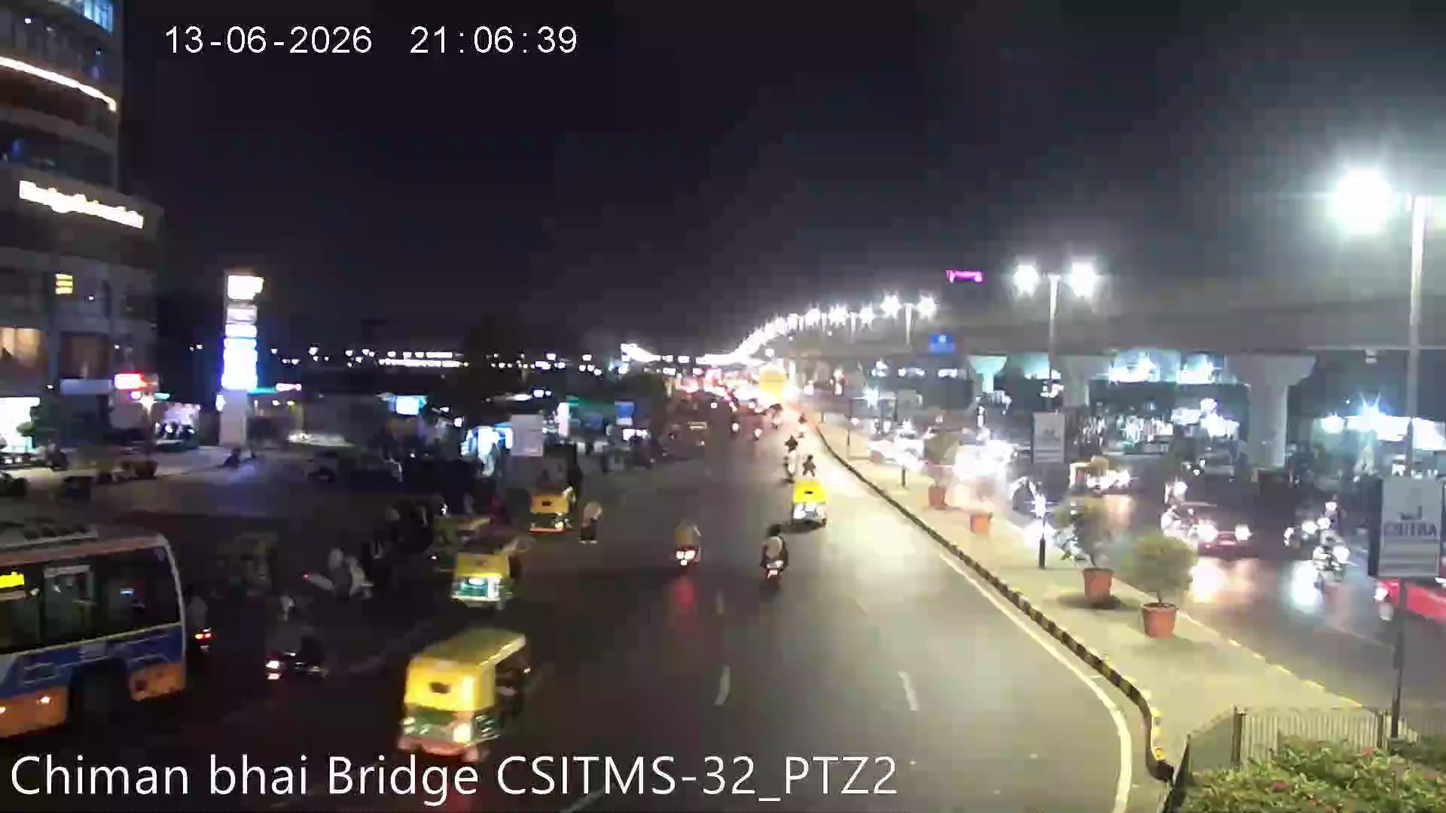auto_rickshaw: (396, 623, 536, 753), (447, 539, 526, 604), (788, 477, 831, 530), (527, 490, 573, 534), (685, 417, 713, 455)
bus: (0, 522, 206, 744)
car: (1157, 495, 1255, 556)
two_wheeler: (755, 521, 792, 591), (668, 514, 705, 574), (728, 412, 742, 440)
